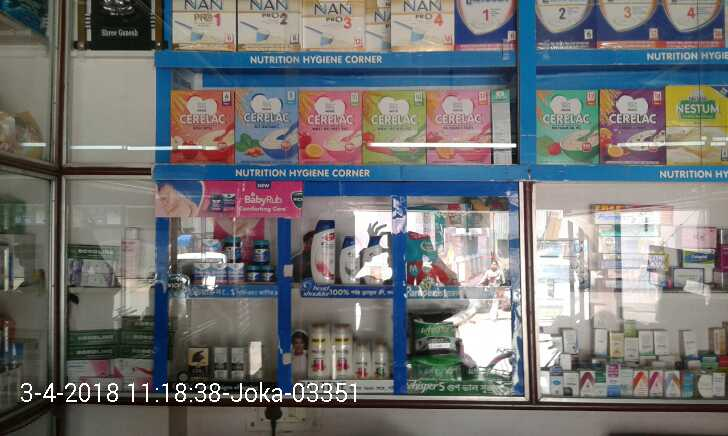vicks: (192, 235, 277, 286)
